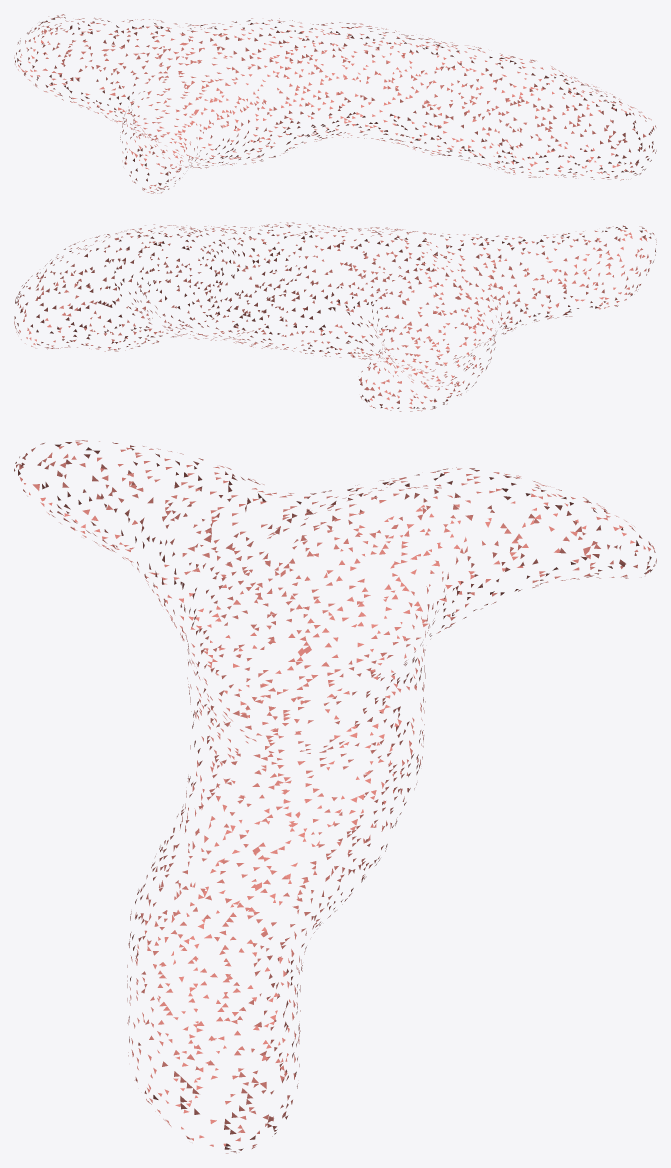
The model's file is morph_001.glb.
3 renders of one model, top to bottom at view 1: azimuth 30°, elevation 25°; view 2: azimuth 150°, elevation 25°; view 3: azimuth 270°, elevation 25°, orthographic. The views are drawn at different scales.
Bounding box in the file's own units: 102 × 37.92 × 65.67.
